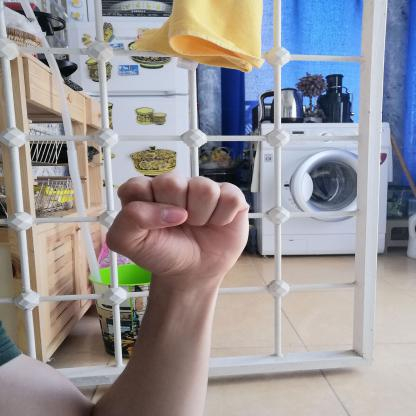SAD: (87, 163, 270, 289)
